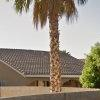Palm tree: (22, 4, 73, 65)
